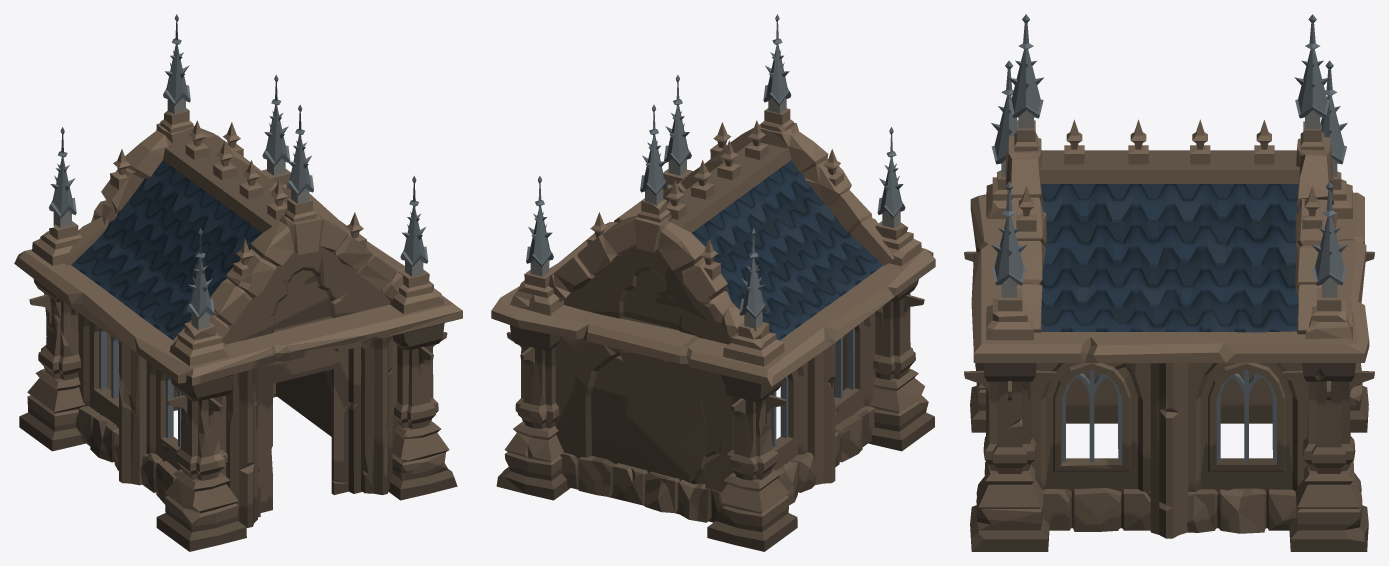
The model's file is BigHouse.fbx.
The picture shows the model from 3 angles, left to right: view 1: azimuth 30°, elevation 25°; view 2: azimuth 150°, elevation 25°; view 3: azimuth 270°, elevation 25°; orthographic projection. The views are drawn at different scales.
Visible parts, largest first — view 1: SM_Prop_Crypt_02; view 2: SM_Prop_Crypt_02; view 3: SM_Prop_Crypt_02.
Boxes of the visible parts, x1,y1,x2,y2 form: SM_Prop_Crypt_02: (14, 14, 462, 551); SM_Prop_Crypt_02: (491, 14, 935, 551); SM_Prop_Crypt_02: (964, 14, 1374, 551).
Size of the model in its own units: 4725 by 6292 by 5072.
